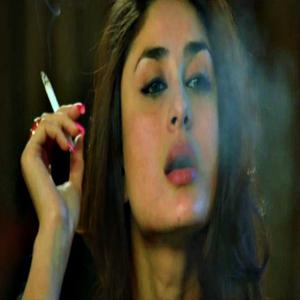cigarette: (41, 71, 61, 114)
